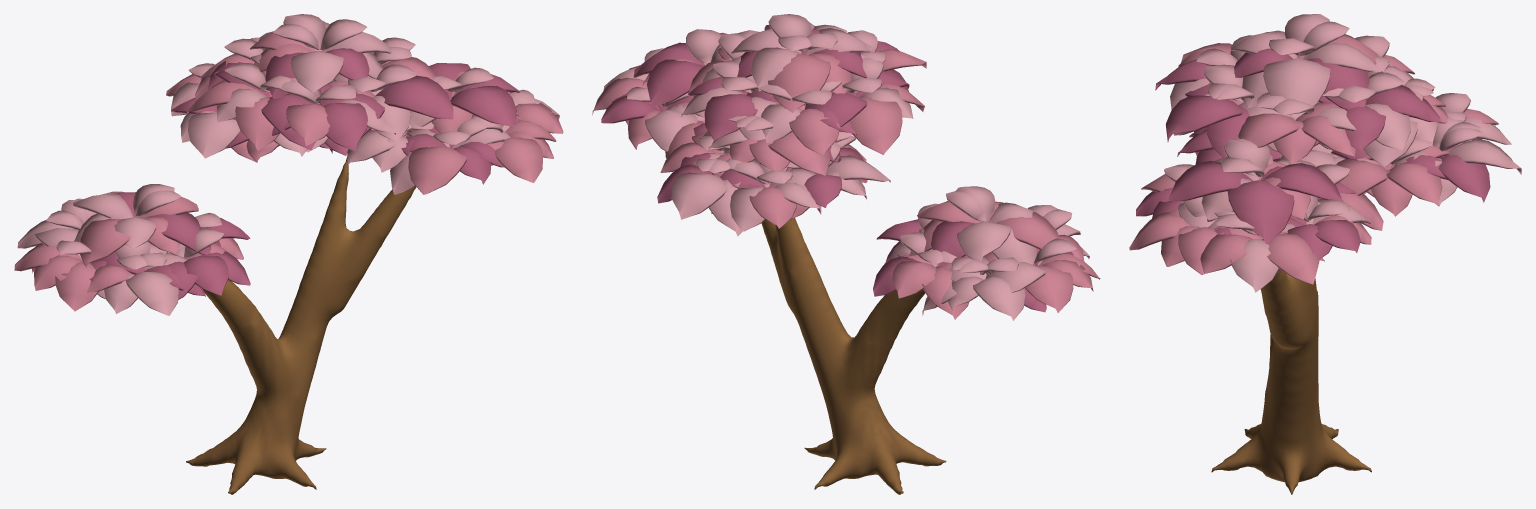
File: blossom.glb
3 views of the same model, side by side, from view 1: azimuth 30°, elevation 25°; view 2: azimuth 150°, elevation 25°; view 3: azimuth 270°, elevation 25° (orthographic). The views are drawn at different scales.
Visible parts, largest first — view 1: blossom · airy crown, blossom · slender forked trunk; view 2: blossom · airy crown, blossom · slender forked trunk; view 3: blossom · airy crown, blossom · slender forked trunk.
Part boxes in pixels (x1=…): blossom · airy crown: x1=14, y1=14, x2=563, y2=315; blossom · slender forked trunk: x1=186, y1=156, x2=416, y2=494; blossom · airy crown: x1=592, y1=14, x2=1100, y2=320; blossom · slender forked trunk: x1=761, y1=218, x2=946, y2=494; blossom · airy crown: x1=1129, y1=14, x2=1521, y2=292; blossom · slender forked trunk: x1=1211, y1=269, x2=1371, y2=494.
Size of the model in its own units: 4.29 by 3.51 by 2.62.
